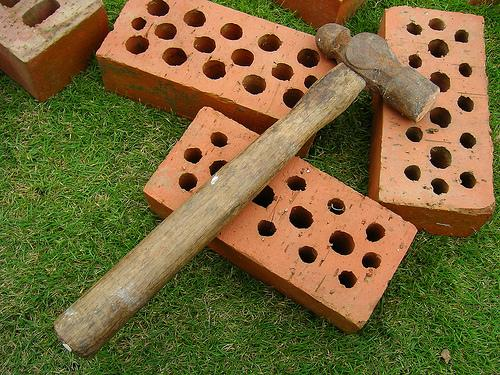hammer: (50, 19, 442, 359)
